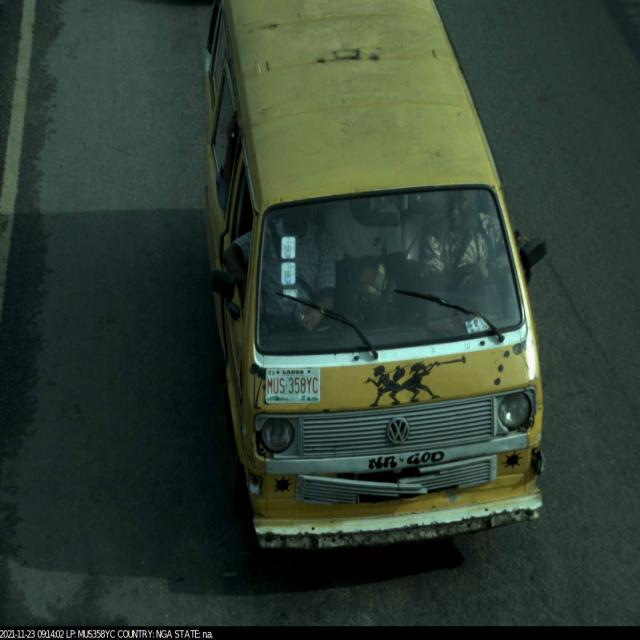windshield: (245, 170, 530, 368)
